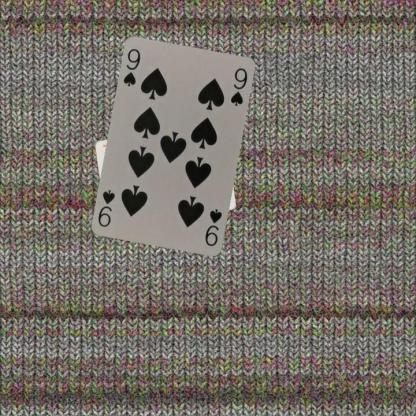9s: (120, 46, 142, 89), (202, 206, 224, 248)
